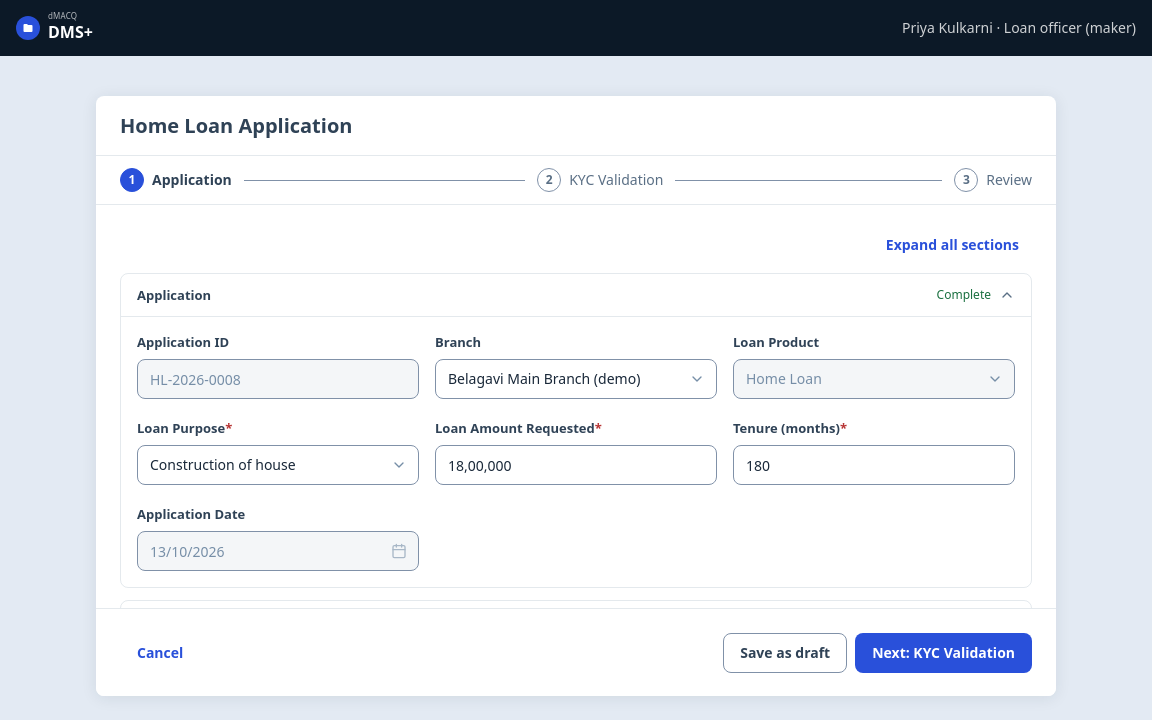
Test: Review and submit › shows the Aadhaar masked, and never in plain text anywhere on the screen
The width and height of the screenshot is (1152, 720).
Step 1. Click the button "Next: KYC Validation" → (944, 652), box 855,632 -> 1032,672
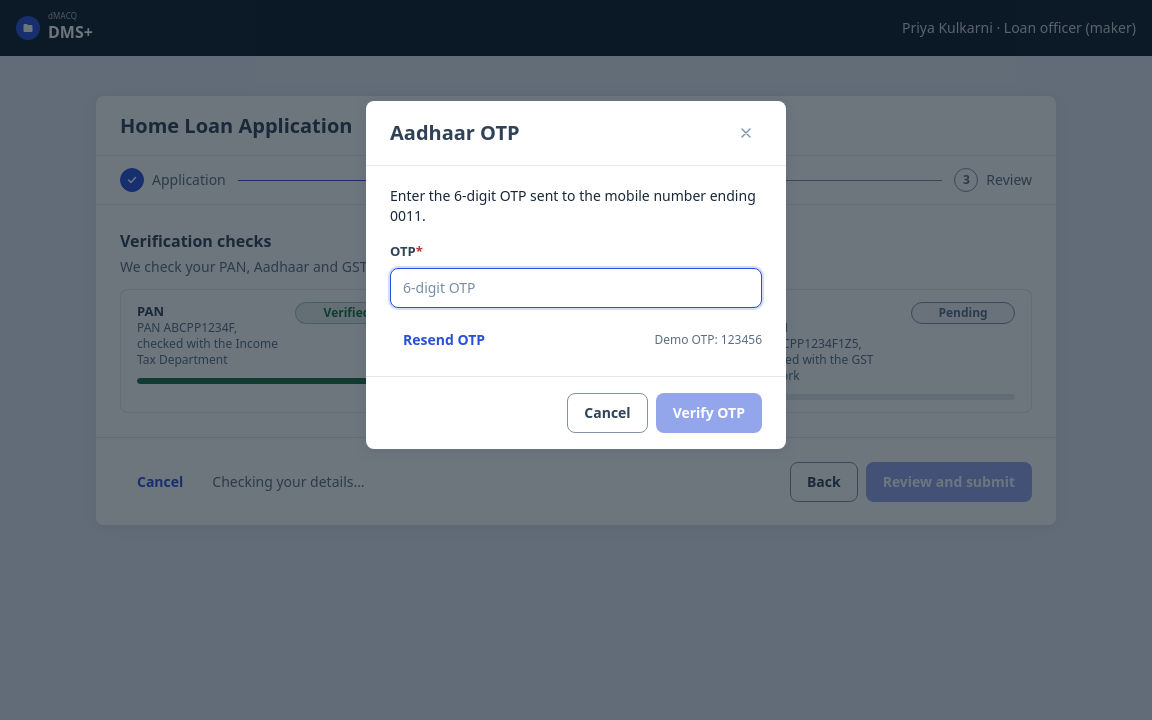
Check: the dialog "Aadhaar OTP" is shown, box 366,101 -> 786,449
Step 2. Type "123456" into the field labelled "OTP*" → (576, 288), box 390,268 -> 762,308
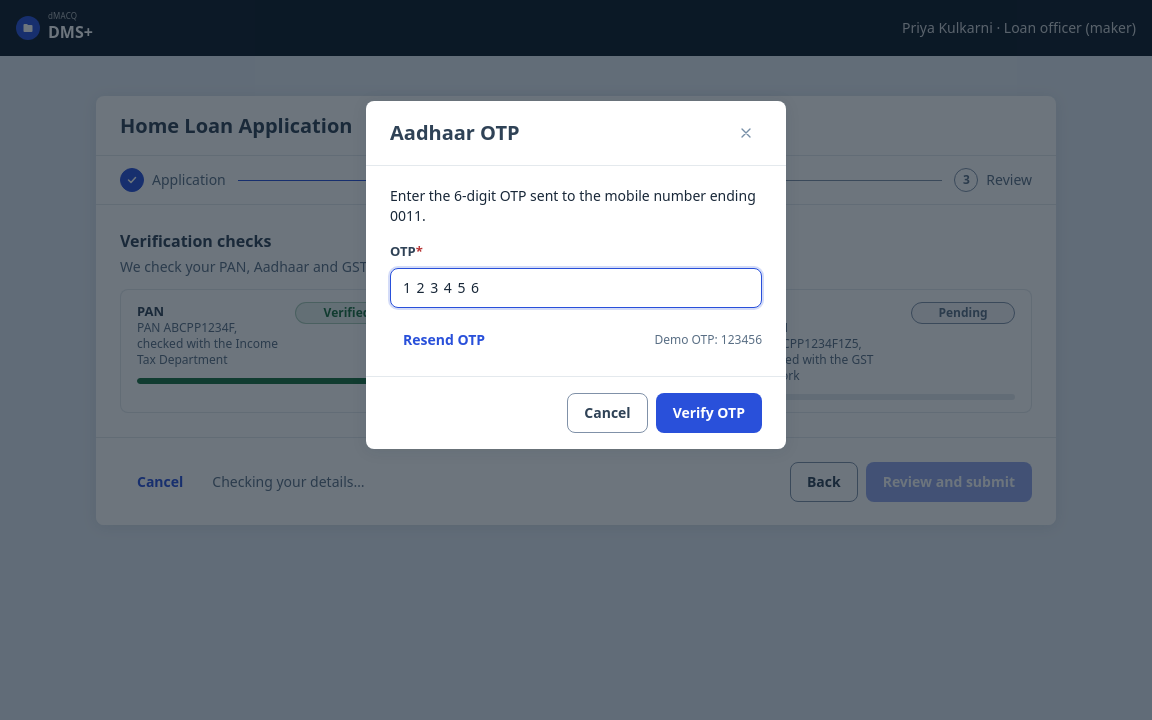
Step 3. Click the button "Verify OTP" → (709, 413), box 656,393 -> 762,433
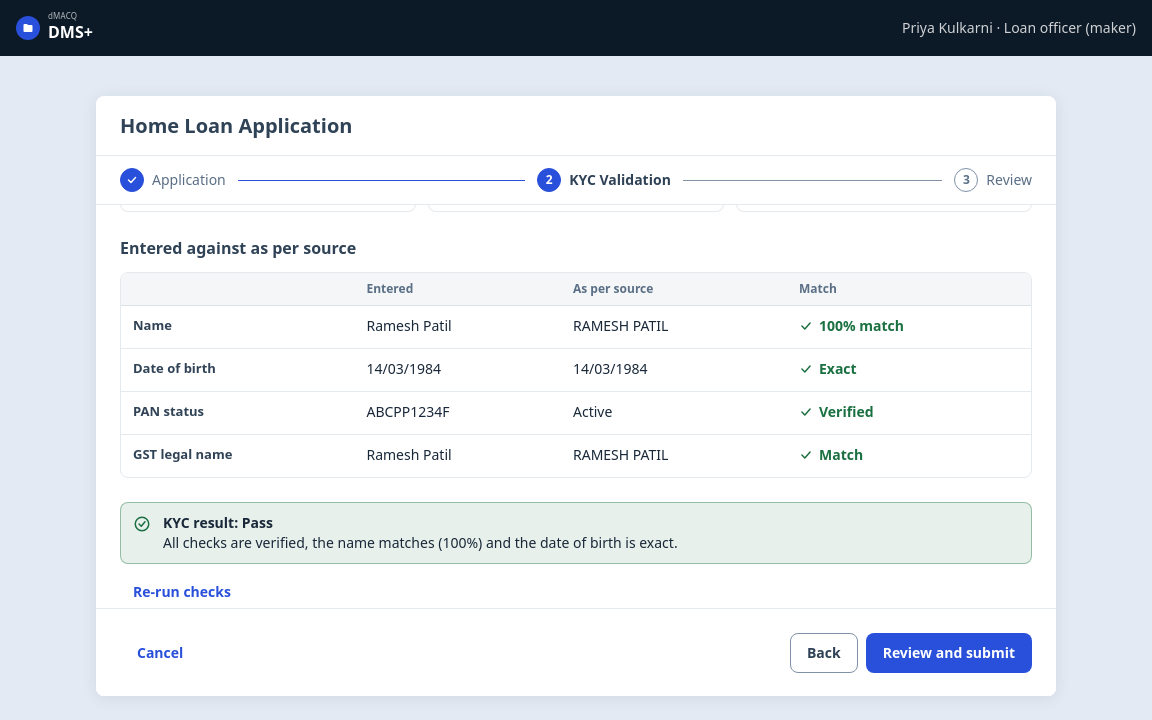
Check: the text "KYC result: Pass" is shown, box 163,513 -> 273,532
Step 4. Click the button "Review and submit" → (949, 652), box 866,632 -> 1032,672
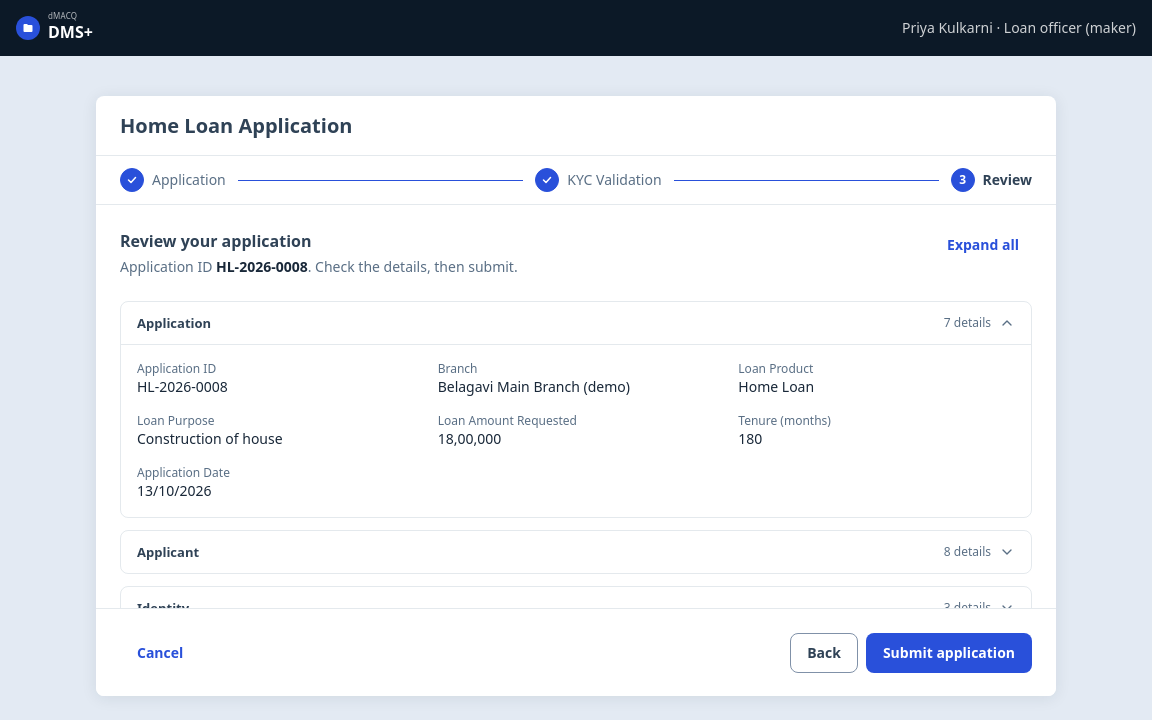
Step 5. Click the button "Expand all" → (983, 245), box 934,229 -> 1032,261
(page scrolled)
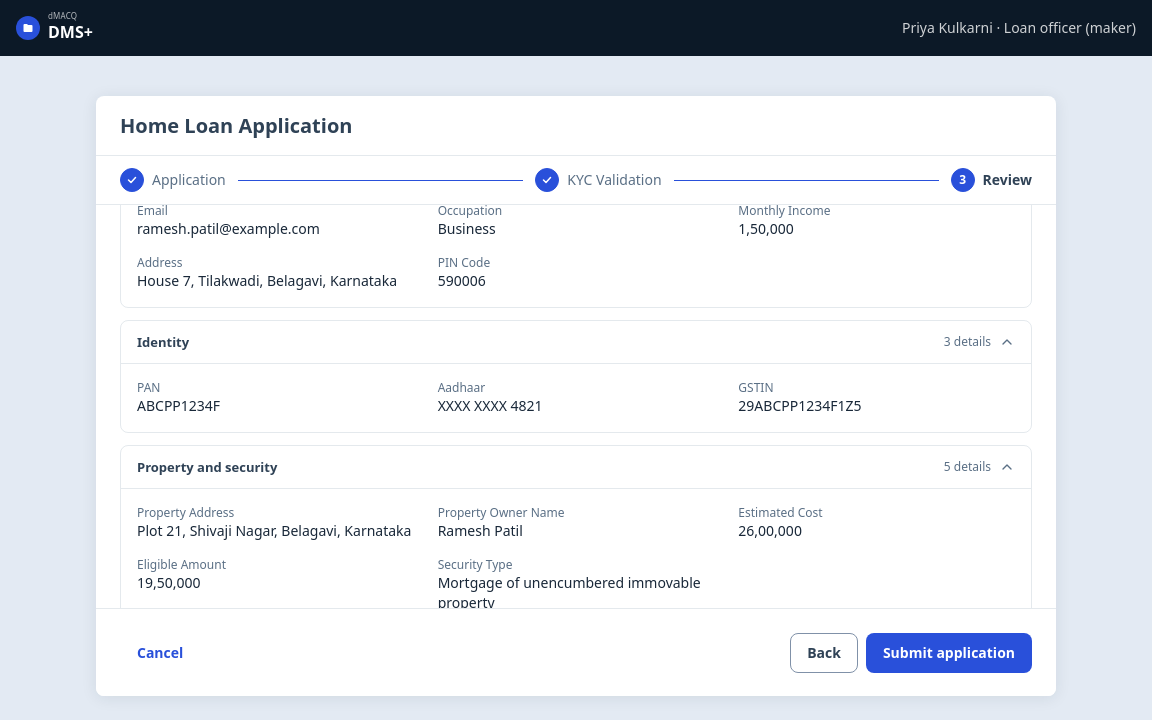
Check: the text "XXXX XXXX 4821" is shown, box 438,396 -> 543,415
